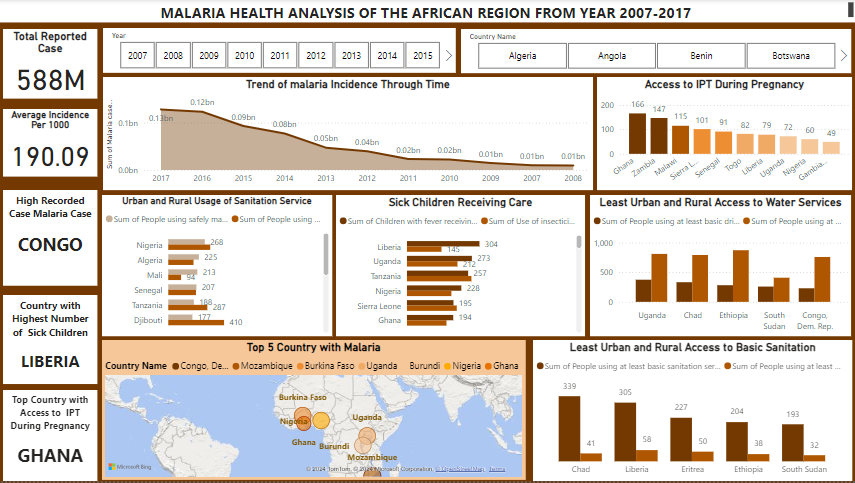

This screenshot's page, from the dashboard's own definition file:
{"tool":"powerbi","page":{"name":"Page 1","canvas":[1280,720],"ordinal":0},"visuals":[{"type":"map","title":"Top 5 Country with Malaria","fields":{"Category":["DatasetAfricaMalaria.Country Name"],"Size":["Sum(DatasetAfricaMalaria.Malaria cases reported)"],"Series":["DatasetAfricaMalaria.Country Name"]},"box":[152.2,509.8,632.7,209.1],"z":0},{"type":"lineChart","title":"Trend of malaria Incidence  Through Time","fields":{"Y":["Sum(DatasetAfricaMalaria.Malaria cases reported)"],"Category":["DatasetAfricaMalaria.Year"]},"box":[153.9,116.5,732,168.8],"z":1000},{"type":"lineClusteredColumnComboChart","title":"Least Urban and Rural Access to Basic Sanitation","fields":{"Category":["DatasetAfricaMalaria.Country Name"],"Y":["Sum(DatasetAfricaMalaria.People using at least basic sanitation services, urban  (% of urban population))","Sum(DatasetAfricaMalaria.People using at least basic sanitation services, rural (% of rural population))"]},"box":[795.8,508.8,477.1,211.3],"z":2000},{"type":"card","title":"Total Reported Case","fields":{"Values":["Sum(DatasetAfricaMalaria.Malaria cases reported)"]},"box":[5,45.4,141.1,104.1],"z":3000},{"type":"lineClusteredColumnComboChart","title":"Least Urban and Rural Access to Water Services","fields":{"Category":["DatasetAfricaMalaria.Country Name"],"Y":["Sum(DatasetAfricaMalaria.People using at least basic drinking water services, rural (% of rural population))","Sum(DatasetAfricaMalaria.People using at least basic drinking water services, urban (% of urban population))"]},"box":[881.3,292.8,389.9,210.6],"z":4000},{"type":"columnChart","title":"Access to IPT During Pregnancy","fields":{"Y":["Sum(DatasetAfricaMalaria.Intermittent preventive treatment (IPT) of malaria in pregnancy (% of pregnant women))"],"Category":["DatasetAfricaMalaria.Country Name"]},"box":[891.8,116.5,380.9,168.8],"z":5000},{"type":"slicer","fields":{"Values":["DatasetAfricaMalaria.Country Name"]},"box":[688.7,45.4,582.9,65.5],"z":6000},{"type":"textbox","box":[0,0,1280,35.2],"z":7000},{"type":"clusteredBarChart","title":"Sick Children Receiving Care","fields":{"Category":["DatasetAfricaMalaria.Country Name"],"Y":["Sum(DatasetAfricaMalaria.Children with fever receiving antimalarial drugs (% of children under age 5 with fever))","Sum(DatasetAfricaMalaria.Use of insecticide-treated bed nets (% of under-5 population))"]},"box":[501.9,292.8,372,210.6],"z":8000},{"type":"slicer","fields":{"Values":["DatasetAfricaMalaria.Year"]},"box":[154.5,43.7,527.5,67.2],"z":9000},{"type":"clusteredBarChart","title":"Urban and Rural Usage of Sanitation Service","fields":{"Y":["Sum(DatasetAfricaMalaria.People using safely managed sanitation services, rural (% of rural population))","Sum(DatasetAfricaMalaria.People using safely managed sanitation services, urban  (% of urban population))"],"Category":["DatasetAfricaMalaria.Country Name"]},"box":[152.4,292.8,343.6,210.6],"z":10000},{"type":"card","title":"Average Incidence Per 1000","fields":{"Values":["Avg(DatasetAfricaMalaria.Incidence of malaria (per 1,000 population at risk))"]},"box":[5,164.6,141.1,100.8],"z":11000},{"type":"textbox","box":[5,285.6,141.1,142.8],"z":12000},{"type":"textbox","box":[5,441.8,141.1,132.7],"z":13000},{"type":"textbox","box":[5,584.6,141.1,136.1],"z":14000}]}

Visuals, with their boxes in screenshot pixels (x1, y1, x2, y2), scaled from the page's 1280x720 canvas onto the 855x483 screenshot:
"Top 5 Country with Malaria" map: <region>102, 342, 524, 482</region>
"Trend of malaria Incidence  Through Time" lineChart: <region>103, 78, 592, 191</region>
"Least Urban and Rural Access to Basic Sanitation" lineClusteredColumnComboChart: <region>532, 341, 850, 482</region>
"Total Reported Case" card: <region>3, 30, 98, 100</region>
"Least Urban and Rural Access to Water Services" lineClusteredColumnComboChart: <region>589, 196, 849, 338</region>
"Access to IPT During Pregnancy" columnChart: <region>596, 78, 850, 191</region>
slicer - DatasetAfricaMalaria.Country Name: <region>460, 30, 849, 74</region>
textbox: <region>0, 0, 854, 24</region>
"Sick Children Receiving Care" clusteredBarChart: <region>335, 196, 584, 338</region>
slicer - DatasetAfricaMalaria.Year: <region>103, 29, 456, 74</region>
"Urban and Rural Usage of Sanitation Service" clusteredBarChart: <region>102, 196, 331, 338</region>
"Average Incidence Per 1000" card: <region>3, 110, 98, 178</region>
textbox: <region>3, 192, 98, 287</region>
textbox: <region>3, 296, 98, 385</region>
textbox: <region>3, 392, 98, 482</region>
